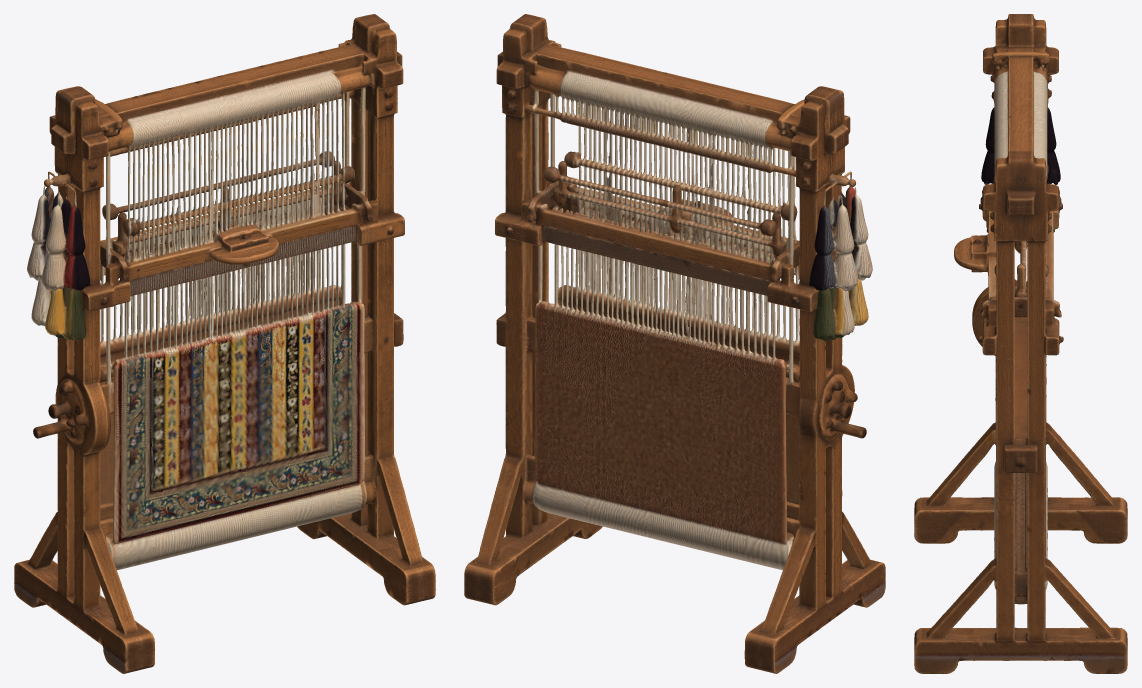
The model's file is yollu.glb.
The picture shows the model from 3 angles, left to right: view 1: azimuth 30°, elevation 25°; view 2: azimuth 150°, elevation 25°; view 3: azimuth 270°, elevation 25°; orthographic projection. The views are drawn at different scales.
Size of the model in its own units: 1.33 by 1.9 by 0.7114.
Materials: 1 (1 with a texture image).
